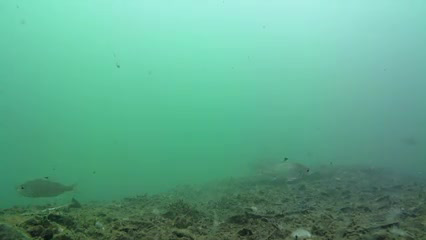smallfish: (16, 172, 85, 202), (258, 151, 315, 185)
